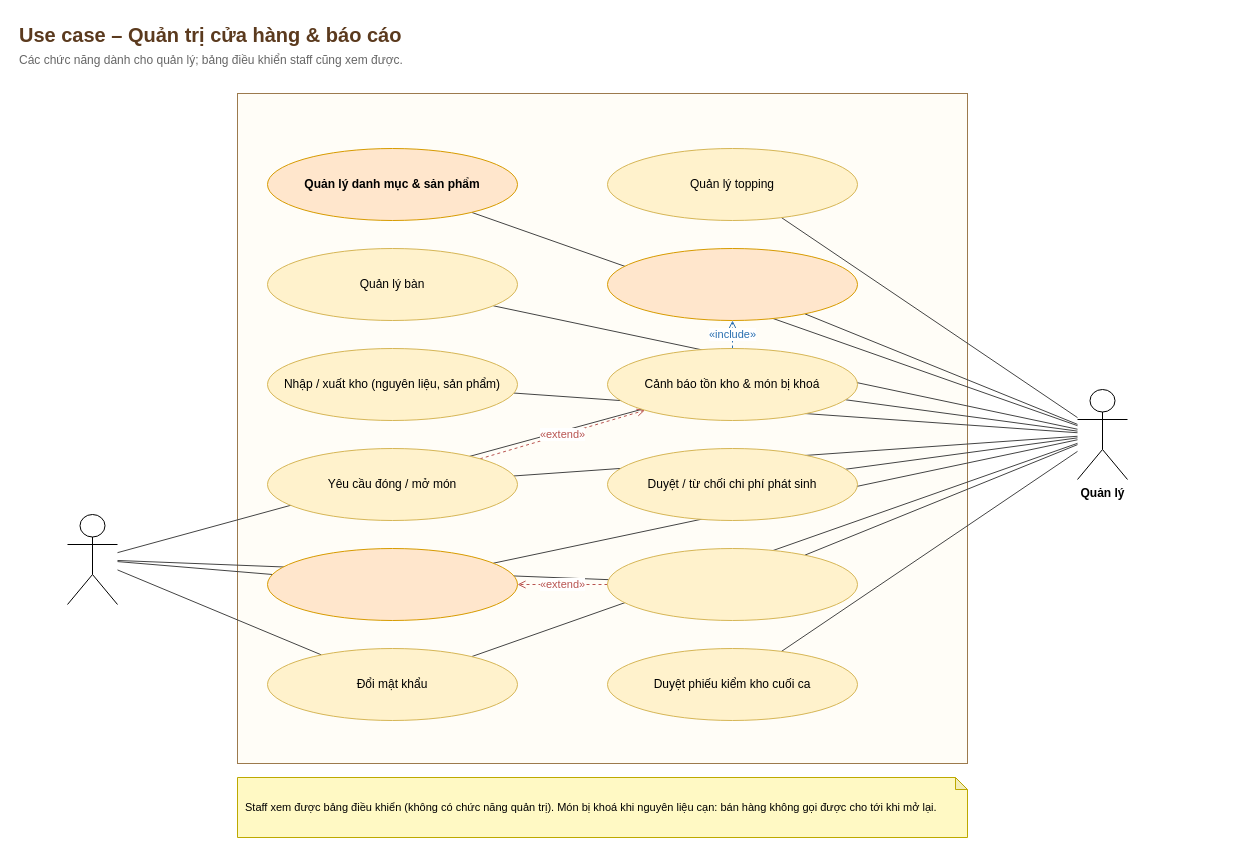
Some shapes in this 1244 by 855 pixel diagram are drawn without their labels. Here are the shapes that lost their labels. From the top down, the box of each, then its label:
(606, 248, 858, 320): Quản lý nguyên liệu & công thức
(236, 92, 968, 764): Quản trị cửa hàng
(66, 514, 118, 604): Nhân viên bán hàng
(266, 548, 518, 620): Xem bảng điều khiển: doanh thu theo ca & cả ngày
(606, 548, 858, 620): Chọn ngày trên tờ lịch: xem doanh thu từng ca & cả ngày
